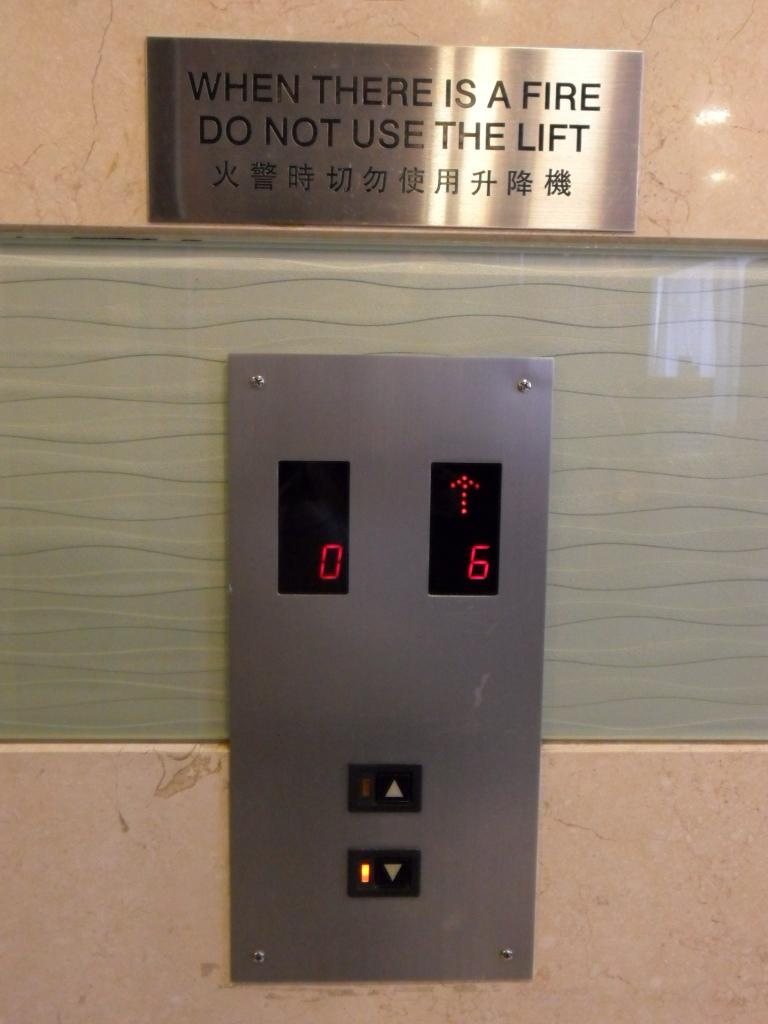down: (343, 843, 426, 901)
led: (425, 454, 506, 601), (275, 454, 351, 600)
up: (344, 759, 427, 816)
